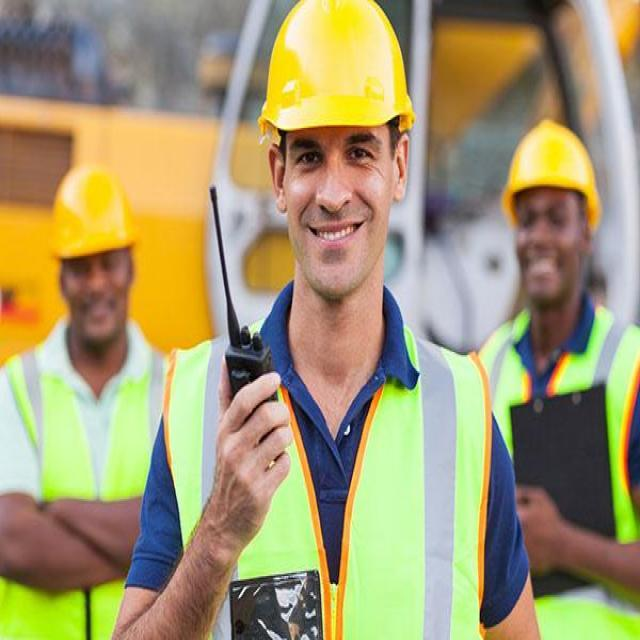reflective_jacket: (163, 313, 497, 633), (484, 300, 638, 633), (5, 337, 163, 639)
safety_helmet: (256, 1, 418, 142), (498, 111, 604, 222), (44, 155, 145, 264)
